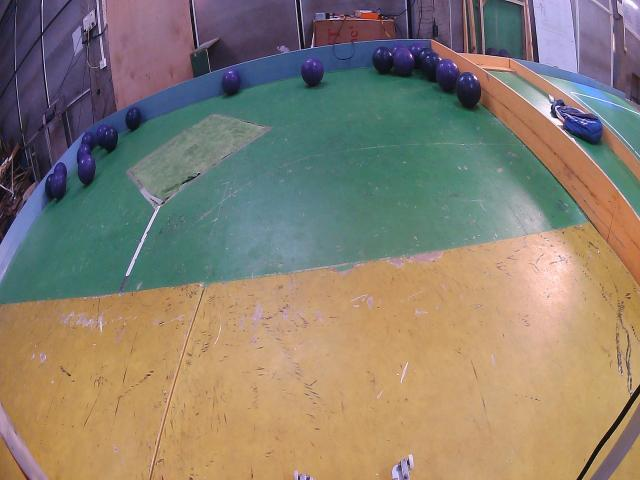jambhalya: (436, 58, 460, 92), (301, 58, 324, 87), (392, 48, 415, 77), (78, 155, 96, 185), (221, 70, 241, 95), (51, 172, 66, 199), (96, 123, 109, 147), (76, 143, 91, 163), (409, 42, 425, 58), (81, 132, 95, 150), (54, 162, 68, 178), (390, 43, 406, 56)
kaalyya: (456, 72, 481, 108), (421, 52, 441, 82), (372, 47, 394, 73), (102, 127, 118, 152), (125, 107, 141, 130), (415, 48, 432, 69), (45, 173, 54, 200)
